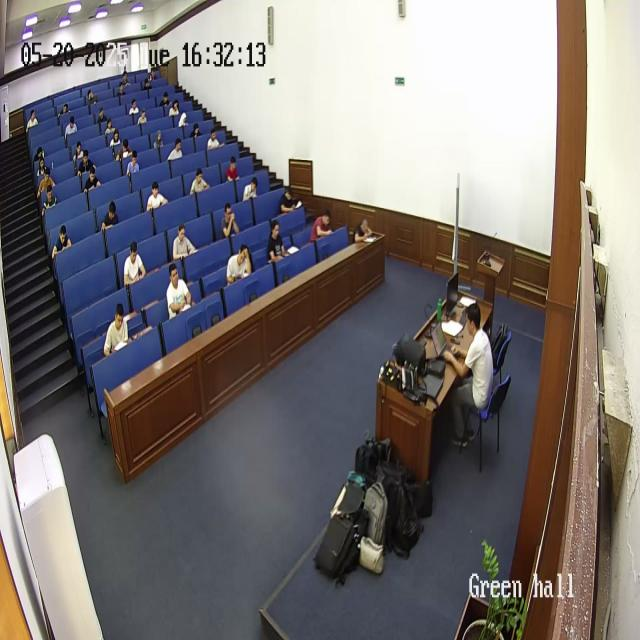person: (444, 303, 494, 448), (103, 303, 133, 357), (166, 264, 194, 321), (123, 240, 147, 289), (226, 242, 253, 284), (172, 223, 198, 262), (266, 219, 288, 263), (309, 209, 333, 243), (51, 225, 73, 261), (221, 203, 241, 240), (36, 163, 56, 197), (146, 182, 168, 212), (101, 201, 119, 235), (352, 218, 374, 244), (279, 188, 301, 214), (190, 167, 210, 195), (41, 180, 58, 212), (74, 141, 90, 175), (84, 163, 102, 191), (126, 150, 142, 180), (109, 127, 125, 157), (242, 175, 258, 203), (64, 114, 78, 145), (167, 137, 183, 163), (150, 126, 166, 150), (226, 156, 240, 182), (26, 108, 39, 134), (207, 129, 221, 151), (136, 106, 148, 130), (98, 110, 110, 134), (119, 70, 131, 94), (168, 100, 180, 120), (128, 97, 140, 116), (144, 68, 154, 90), (58, 102, 70, 120), (178, 111, 190, 128), (87, 87, 98, 105), (190, 122, 202, 138), (162, 90, 171, 108), (34, 146, 44, 162)
